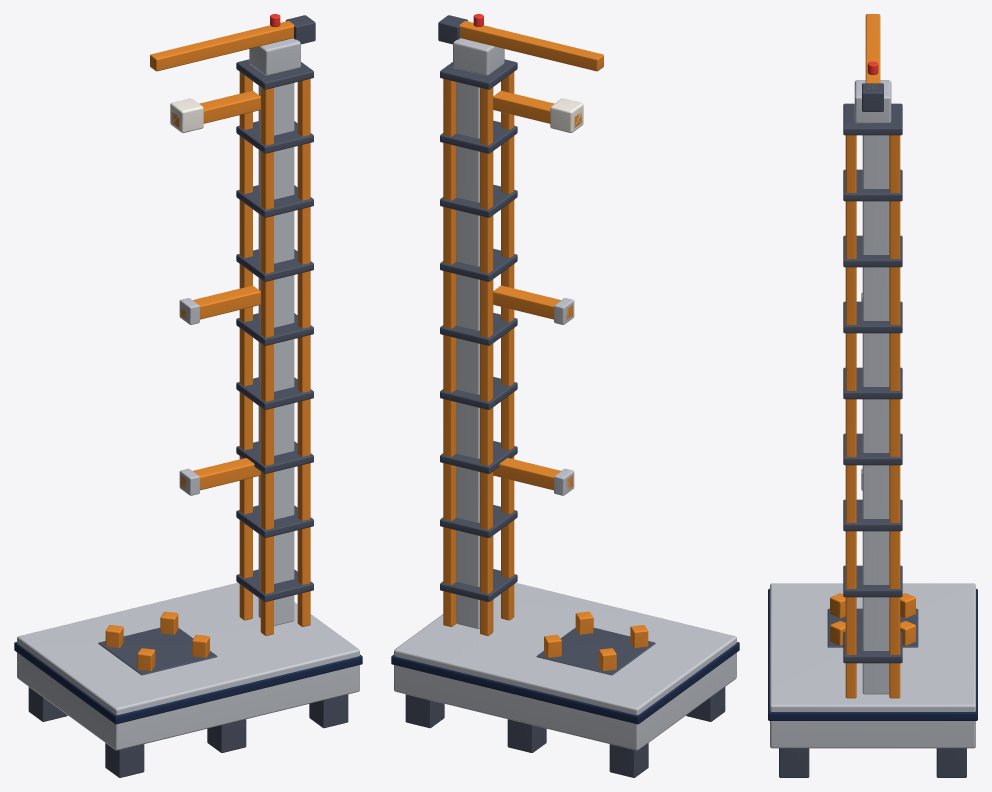
File: Scene_LaunchPad.fbx
The picture shows the model from 3 angles, left to right: view 1: azimuth 30°, elevation 25°; view 2: azimuth 150°, elevation 25°; view 3: azimuth 270°, elevation 25°; orthographic projection. The views are drawn at different scales.
Parts seen in each view (by area): view 1: Scene_LaunchPad.Tower, Scene_LaunchPad.Platform, Scene_LaunchPad.Crane, Scene_LaunchPad.Legs, Scene_LaunchPad.Move_Arm_3, Scene_LaunchPad.Move_Arm_2, Scene_LaunchPad.Move_Arm_1, Scene_LaunchPad.HoldDowns; view 2: Scene_LaunchPad.Tower, Scene_LaunchPad.Platform, Scene_LaunchPad.Crane, Scene_LaunchPad.Legs, Scene_LaunchPad.Move_Arm_3, Scene_LaunchPad.Move_Arm_2, Scene_LaunchPad.Move_Arm_1, Scene_LaunchPad.HoldDowns; view 3: Scene_LaunchPad.Tower, Scene_LaunchPad.Platform, Scene_LaunchPad.Crane, Scene_LaunchPad.Legs, Scene_LaunchPad.HoldDowns.
Part boxes in pixels (left/top/right/bottom): Scene_LaunchPad.Tower: left=236, top=59, right=313, bottom=635; Scene_LaunchPad.Platform: left=14, top=583, right=362, bottom=750; Scene_LaunchPad.Crane: left=150, top=15, right=315, bottom=75; Scene_LaunchPad.Legs: left=28, top=687, right=348, bottom=777; Scene_LaunchPad.Move_Arm_3: left=170, top=91, right=260, bottom=132; Scene_LaunchPad.Move_Arm_2: left=179, top=285, right=260, bottom=324; Scene_LaunchPad.Move_Arm_1: left=179, top=458, right=260, bottom=495; Scene_LaunchPad.HoldDowns: left=105, top=611, right=209, bottom=671; Scene_LaunchPad.Tower: left=440, top=59, right=517, bottom=635; Scene_LaunchPad.Platform: left=391, top=583, right=739, bottom=750; Scene_LaunchPad.Crane: left=438, top=15, right=603, bottom=75; Scene_LaunchPad.Legs: left=405, top=687, right=725, bottom=777; Scene_LaunchPad.Move_Arm_3: left=493, top=91, right=583, bottom=132; Scene_LaunchPad.Move_Arm_2: left=493, top=285, right=574, bottom=324; Scene_LaunchPad.Move_Arm_1: left=493, top=458, right=574, bottom=495; Scene_LaunchPad.HoldDowns: left=544, top=611, right=648, bottom=671; Scene_LaunchPad.Tower: left=843, top=103, right=902, bottom=698; Scene_LaunchPad.Platform: left=768, top=583, right=977, bottom=748; Scene_LaunchPad.Crane: left=854, top=14, right=891, bottom=123; Scene_LaunchPad.Legs: left=779, top=748, right=966, bottom=777; Scene_LaunchPad.HoldDowns: left=830, top=593, right=915, bottom=645.
Size of the model in its own units: 48.6 by 127 by 34.6.
1 material, 1 textured.
